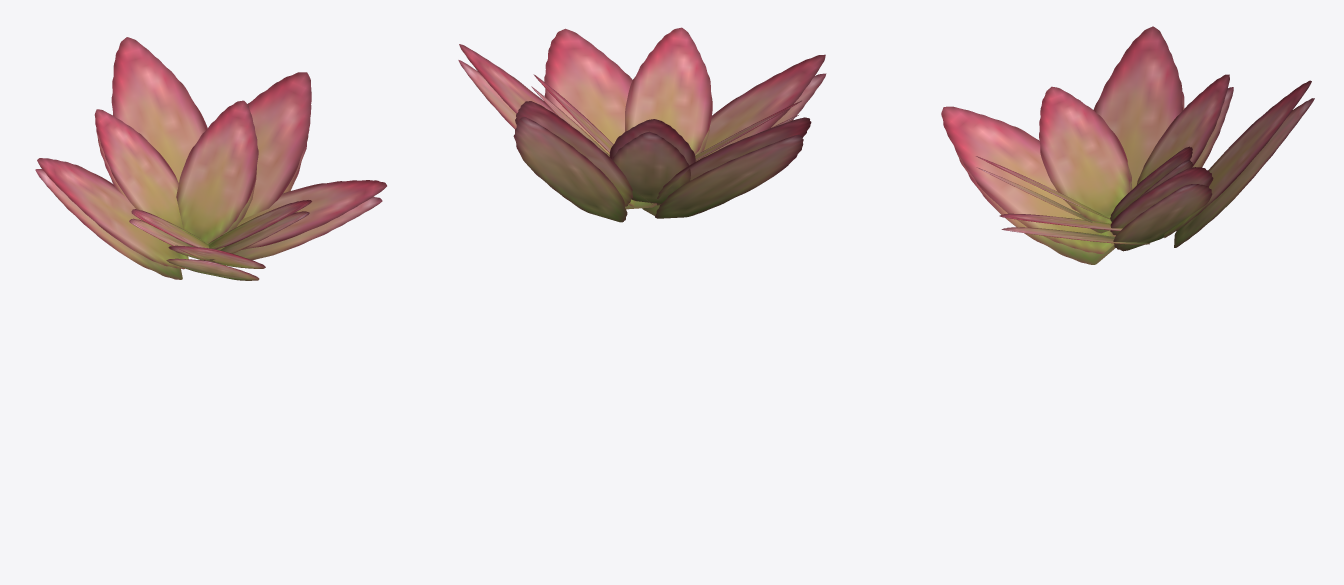
Rendered from Yland1_Zb_18_Yland1.FBX.
3 views of the same model, side by side, from view 1: azimuth 30°, elevation 25°; view 2: azimuth 150°, elevation 25°; view 3: azimuth 270°, elevation 25° (orthographic). The views are drawn at different scales.
Visible parts, largest first — view 1: Yland1_Zb_18_Yland1; view 2: Yland1_Zb_18_Yland1; view 3: Yland1_Zb_18_Yland1.
Part boxes in pixels (x1,y1,x2,y2): Yland1_Zb_18_Yland1: (35, 37, 386, 280); Yland1_Zb_18_Yland1: (458, 27, 826, 222); Yland1_Zb_18_Yland1: (941, 26, 1314, 264).
Size of the model in its own units: 0.3638 by 0.4701 by 0.3648.
